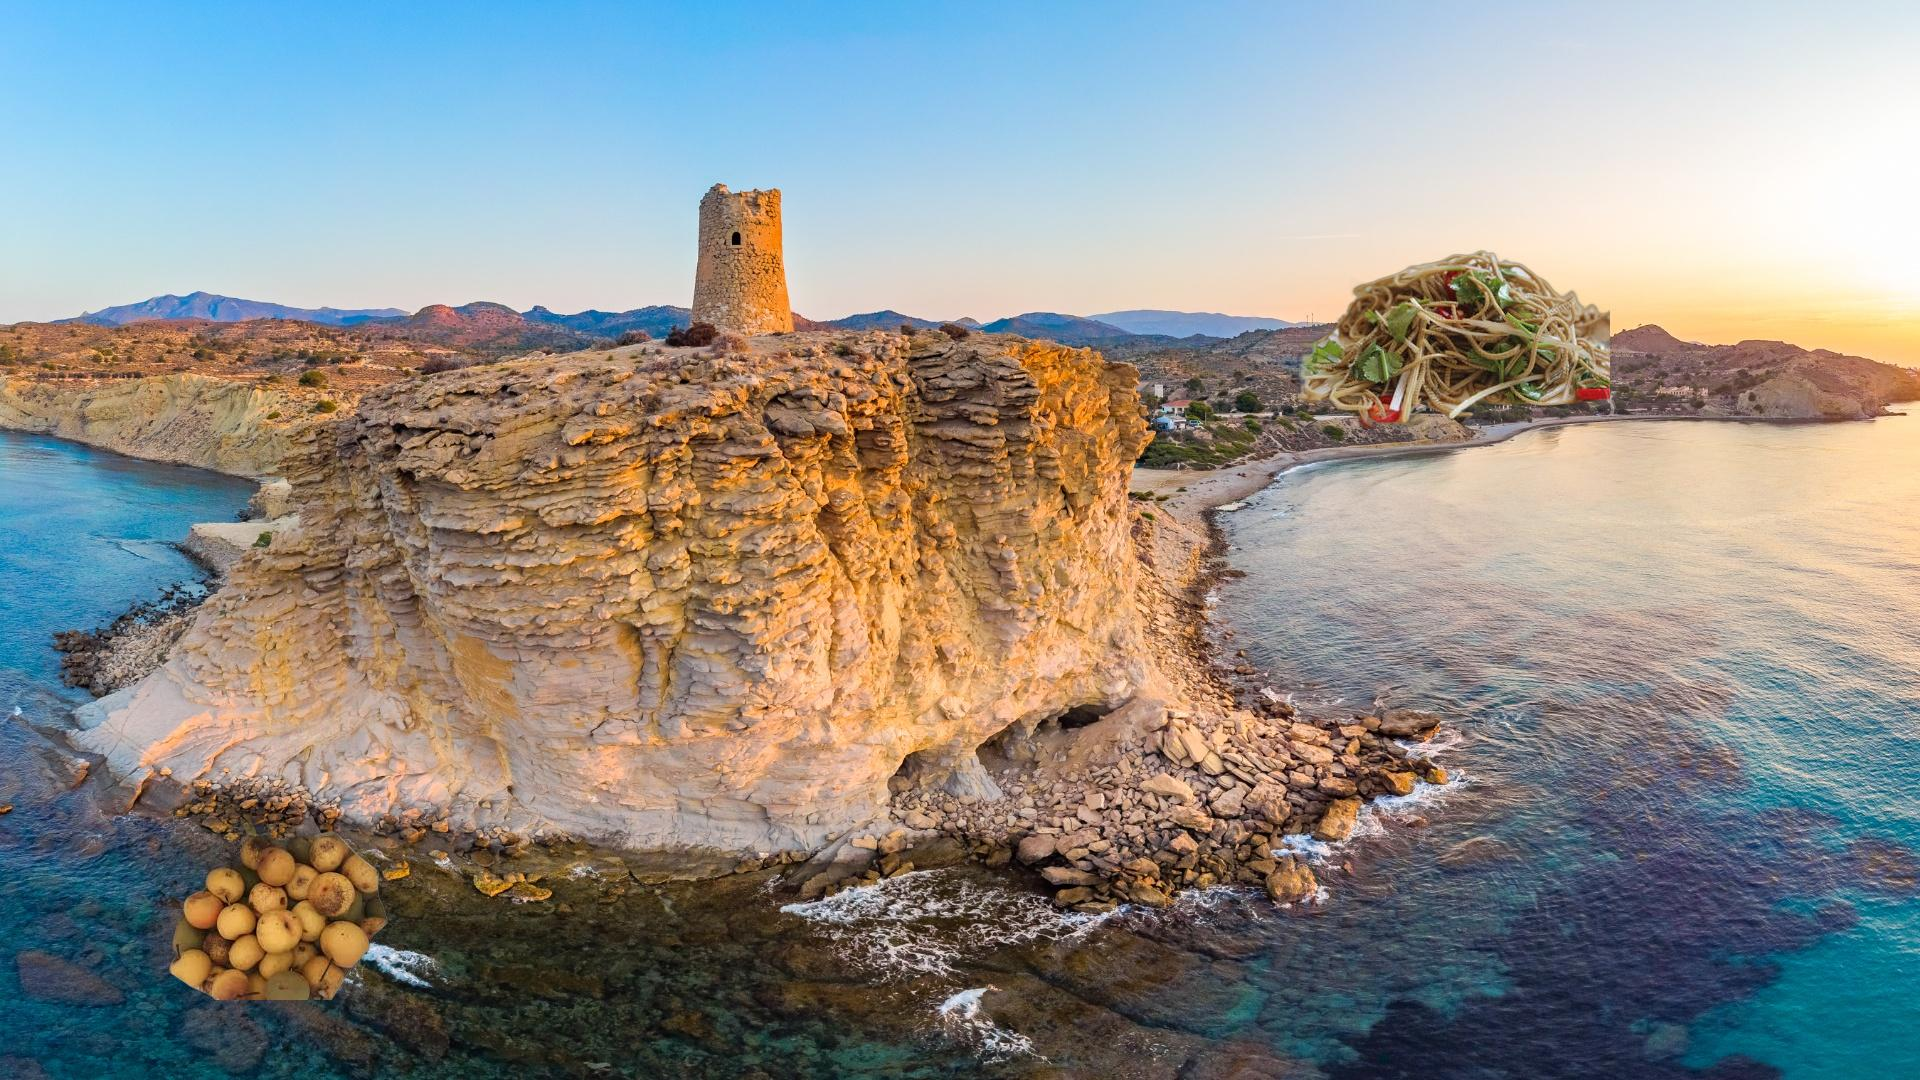biological: (1298, 248, 1610, 433), (166, 814, 392, 1000)
